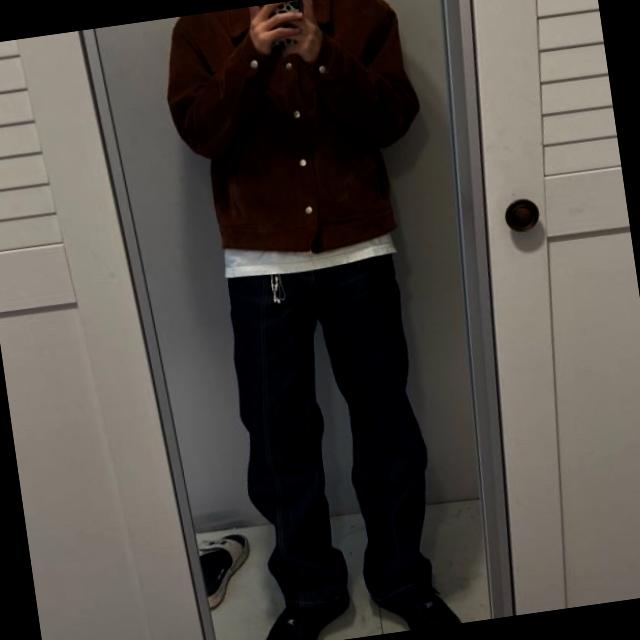denimpants: (218, 248, 446, 616)
jacket: (154, 0, 436, 268)
